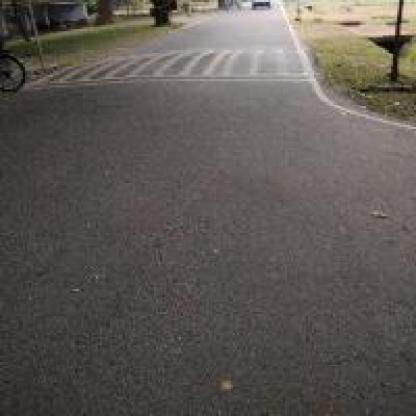Speed Bump: (29, 46, 308, 85)
